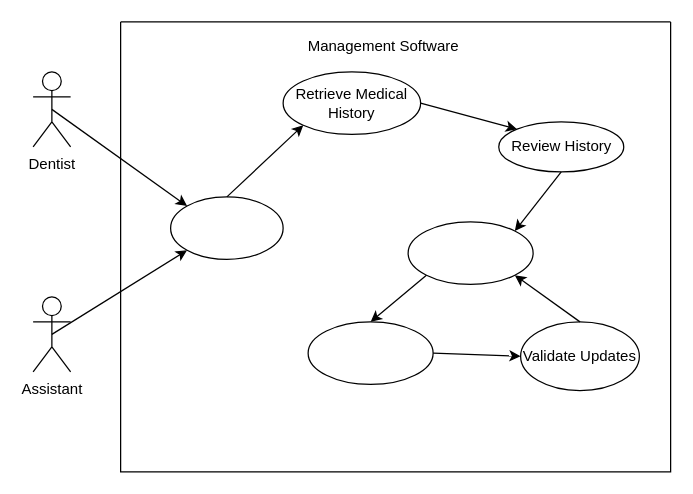
This 693x494 diagram has some shape labels left out. Each missing label, with the centre of its shape:
"Save Changes" goes at (x=370, y=352).
"Select Patient" goes at (x=226, y=227).
"Update Medical History" goes at (x=470, y=252).
